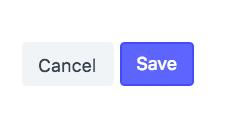button: (118, 38, 196, 91)
